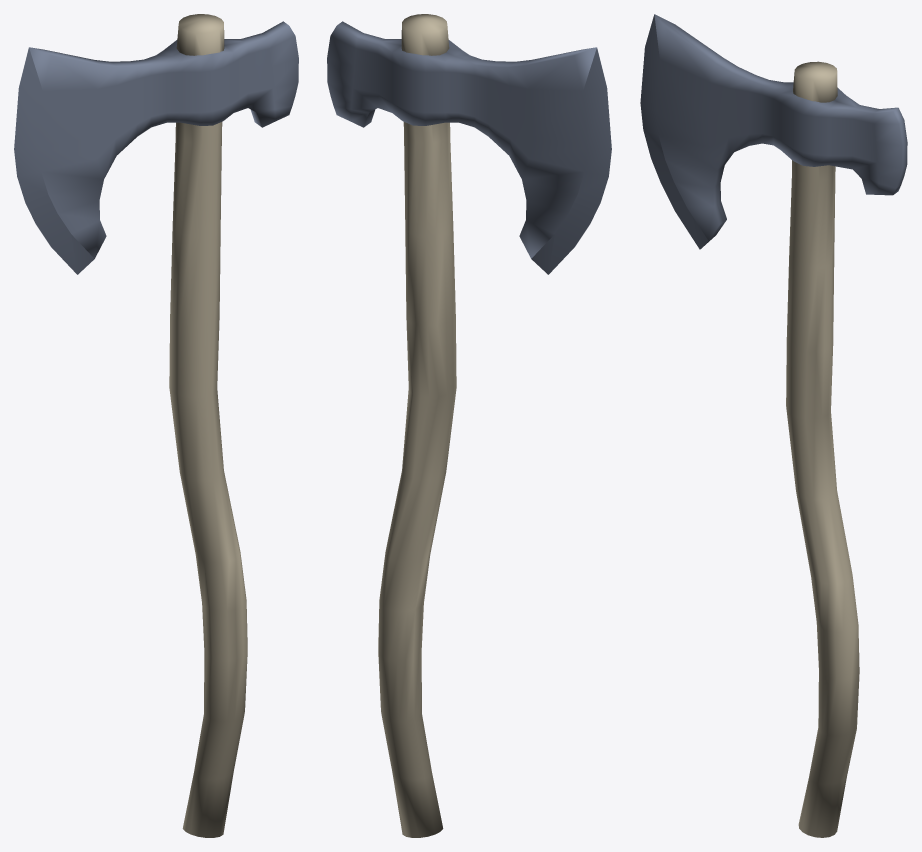
The model's file is pq_hache_outil.glb.
The picture shows the model from 3 angles, left to right: view 1: azimuth 30°, elevation 25°; view 2: azimuth 150°, elevation 25°; view 3: azimuth 330°, elevation 25°; orthographic projection. The views are drawn at different scales.
Parts seen in each view (by area): view 1: Axe_Bronze; view 2: Axe_Bronze; view 3: Axe_Bronze.
Boxes of the visible parts, <box> form: Axe_Bronze: <box>14,14,298,837</box>; Axe_Bronze: <box>327,14,611,837</box>; Axe_Bronze: <box>640,14,907,837</box>.
Size of the model in its own units: 0.2493 by 0.7 by 0.039.
